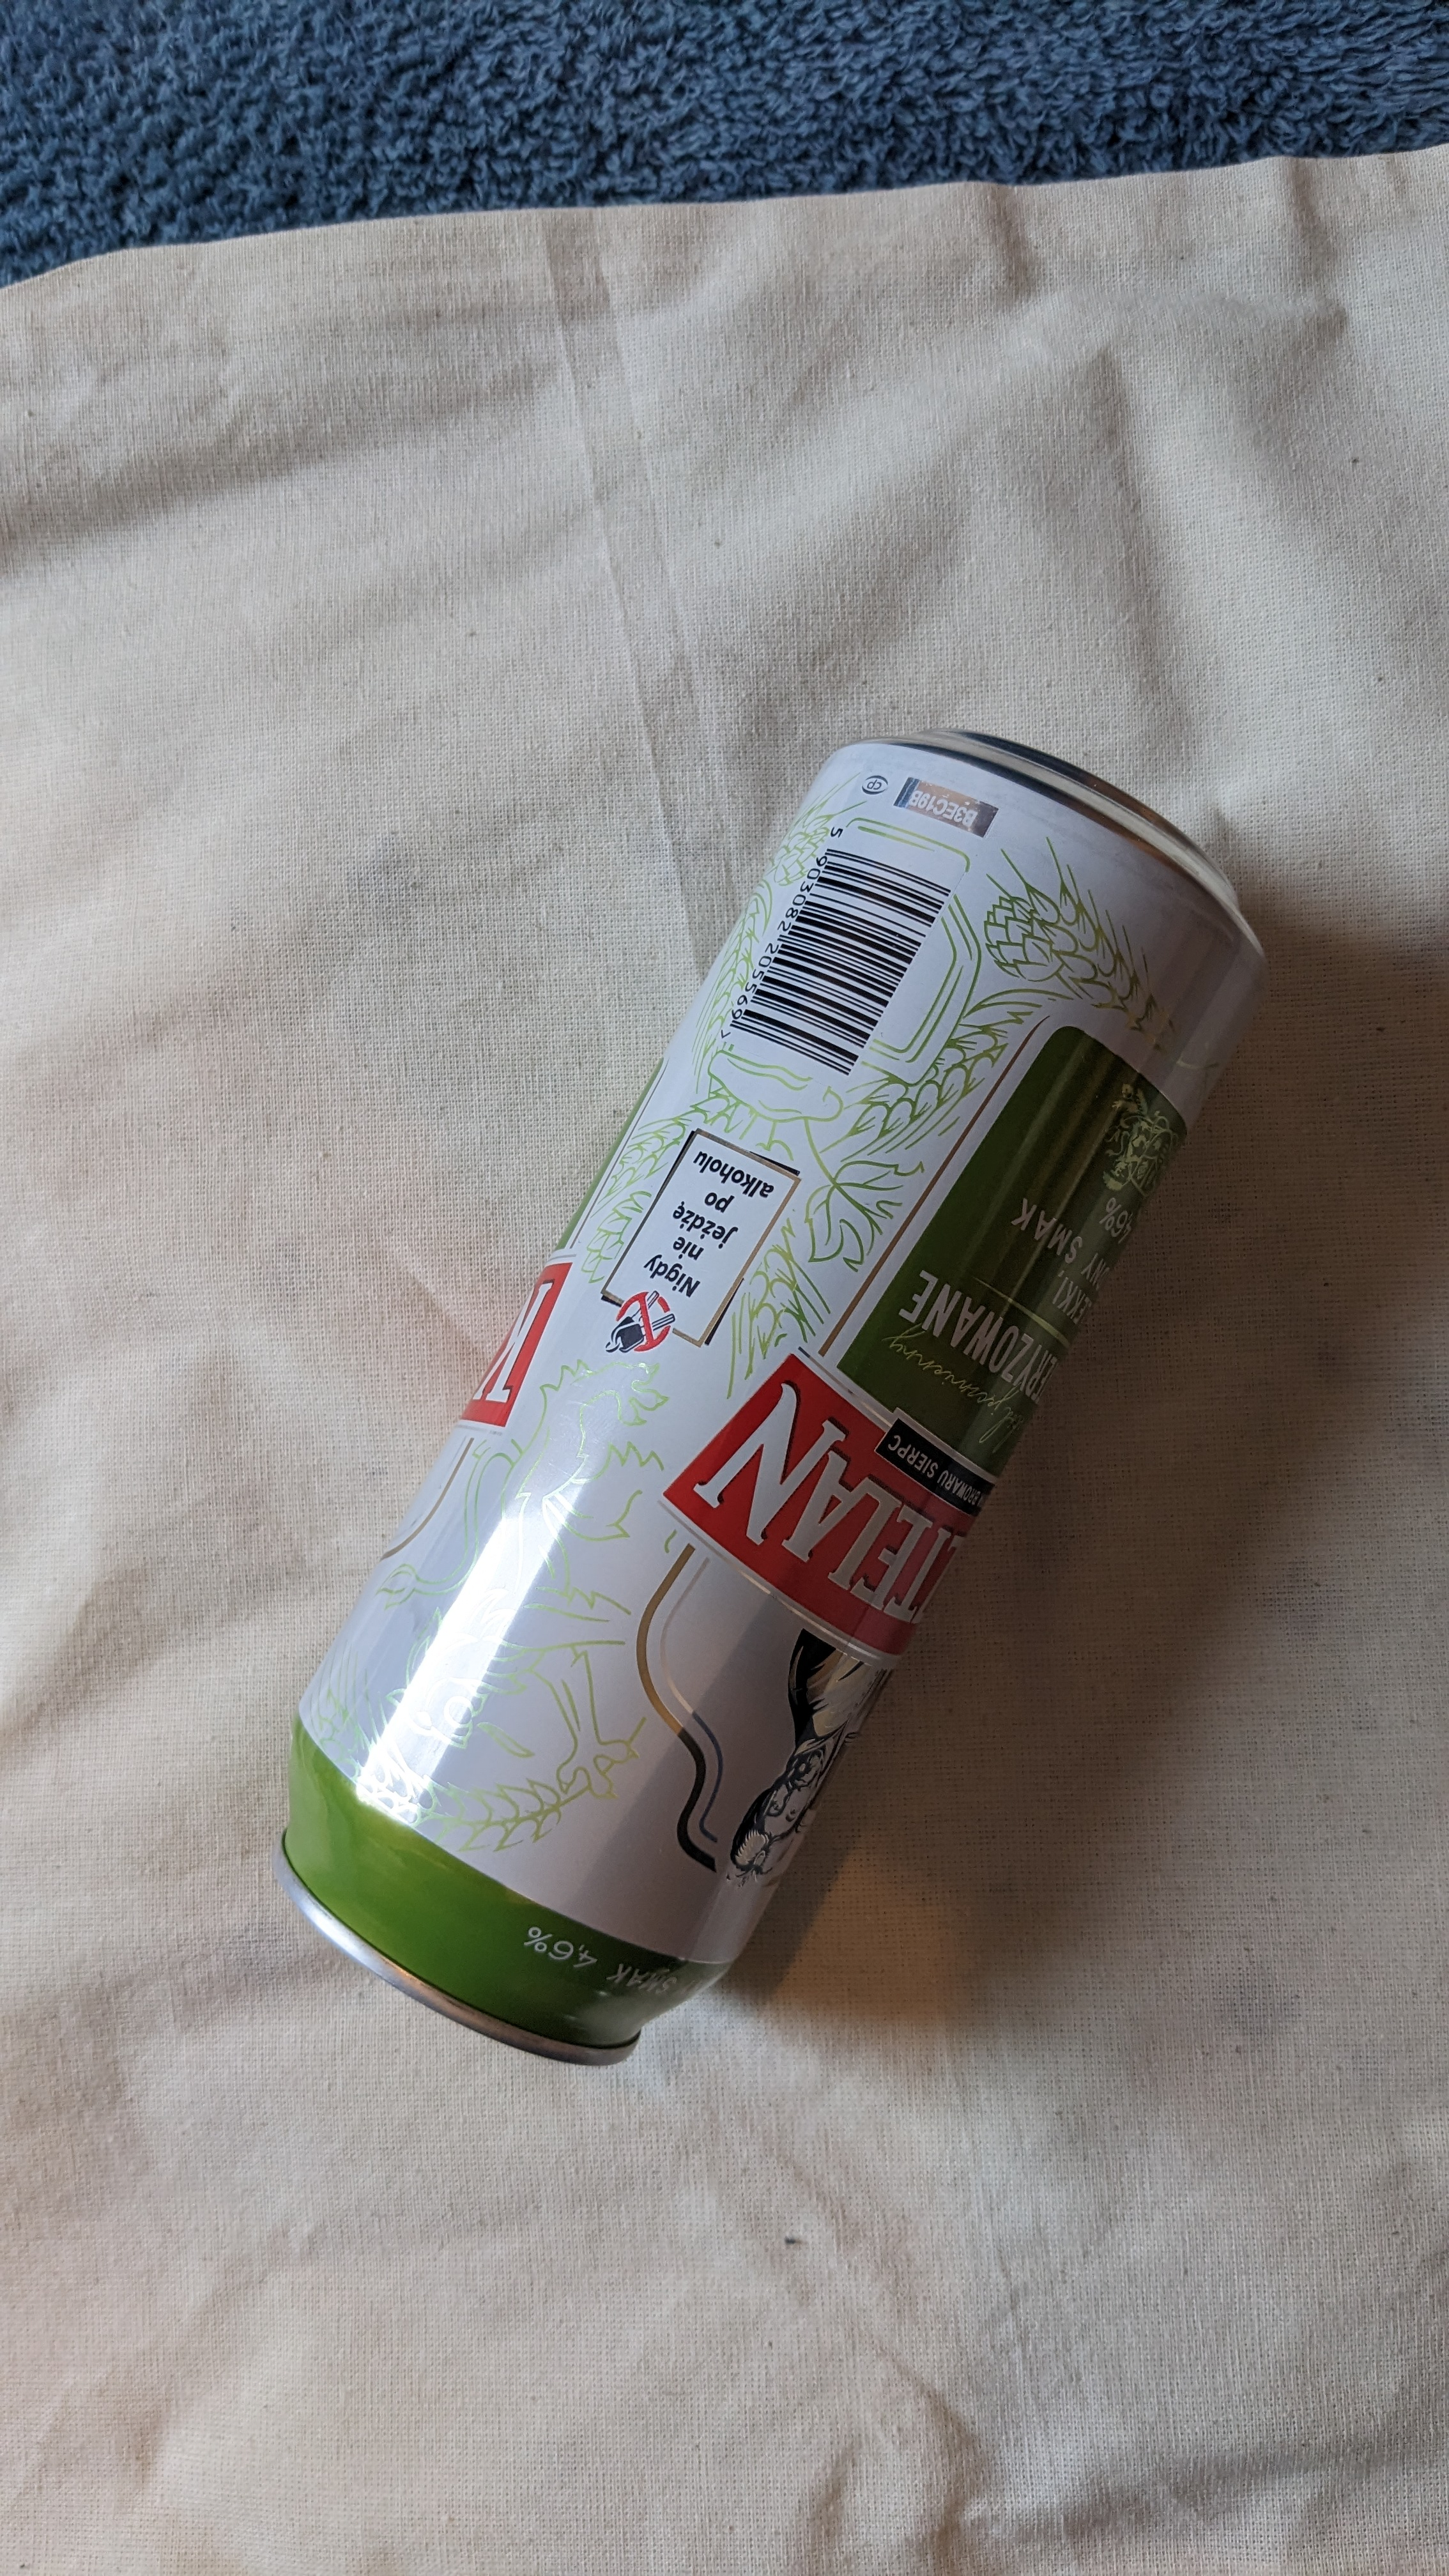kasztelan: (269, 674, 1288, 2088)
